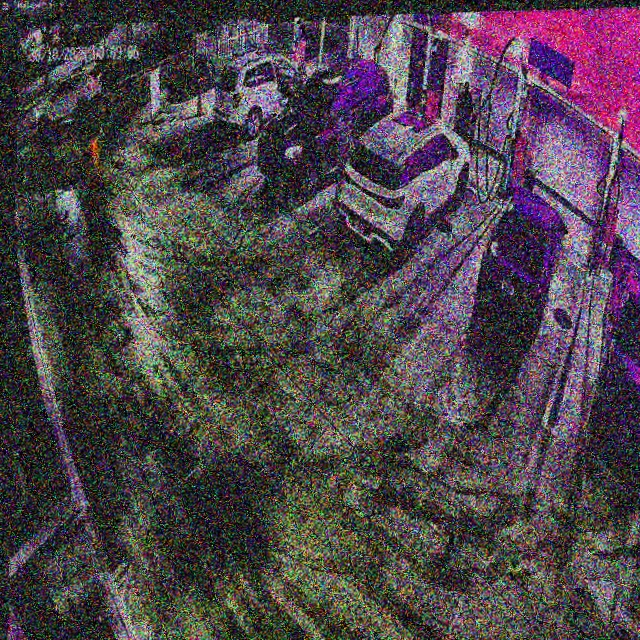Car: (339, 108, 476, 266), (256, 60, 395, 190), (475, 188, 573, 347)
